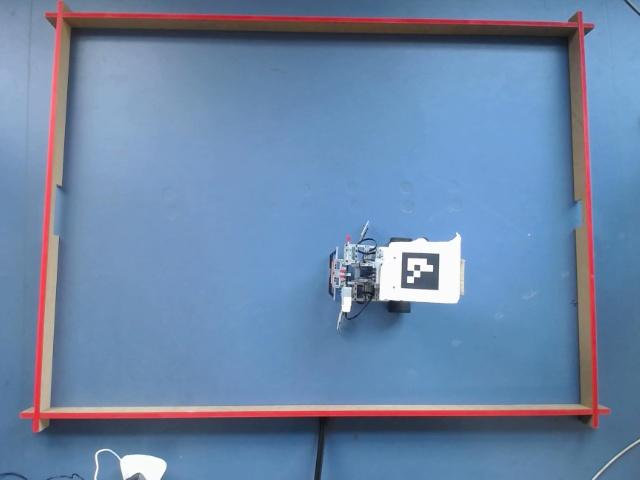ev3: (329, 226, 466, 330)
